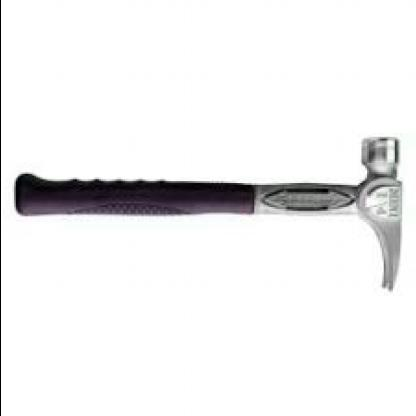Hammer: (11, 133, 406, 296)
